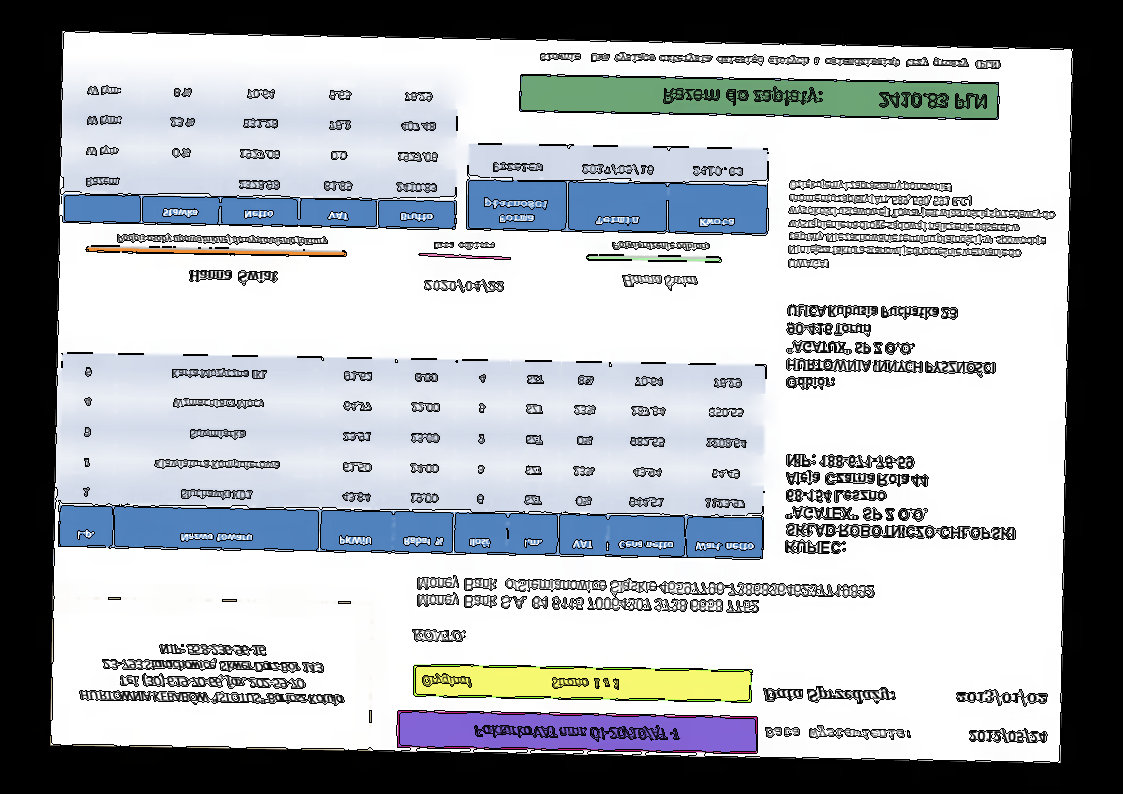Table: (57, 350, 769, 561), (60, 70, 461, 232), (465, 142, 769, 237)
TextBox: (785, 177, 1058, 277), (781, 451, 1018, 562), (414, 574, 877, 621), (783, 301, 998, 396), (77, 639, 347, 708), (538, 47, 1003, 73), (660, 84, 990, 116), (418, 670, 623, 694), (470, 722, 685, 744), (115, 232, 333, 250), (762, 681, 898, 707), (761, 723, 914, 742), (955, 687, 1053, 709), (185, 267, 281, 288), (421, 275, 507, 297), (965, 725, 1050, 747), (608, 238, 712, 254), (620, 272, 701, 292), (409, 627, 470, 647), (431, 240, 497, 254)
